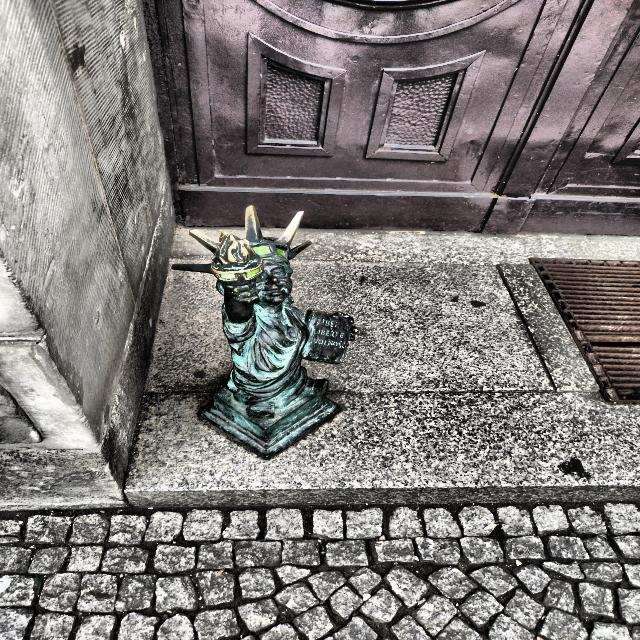LadyWolnosc: (172, 206, 357, 458)
